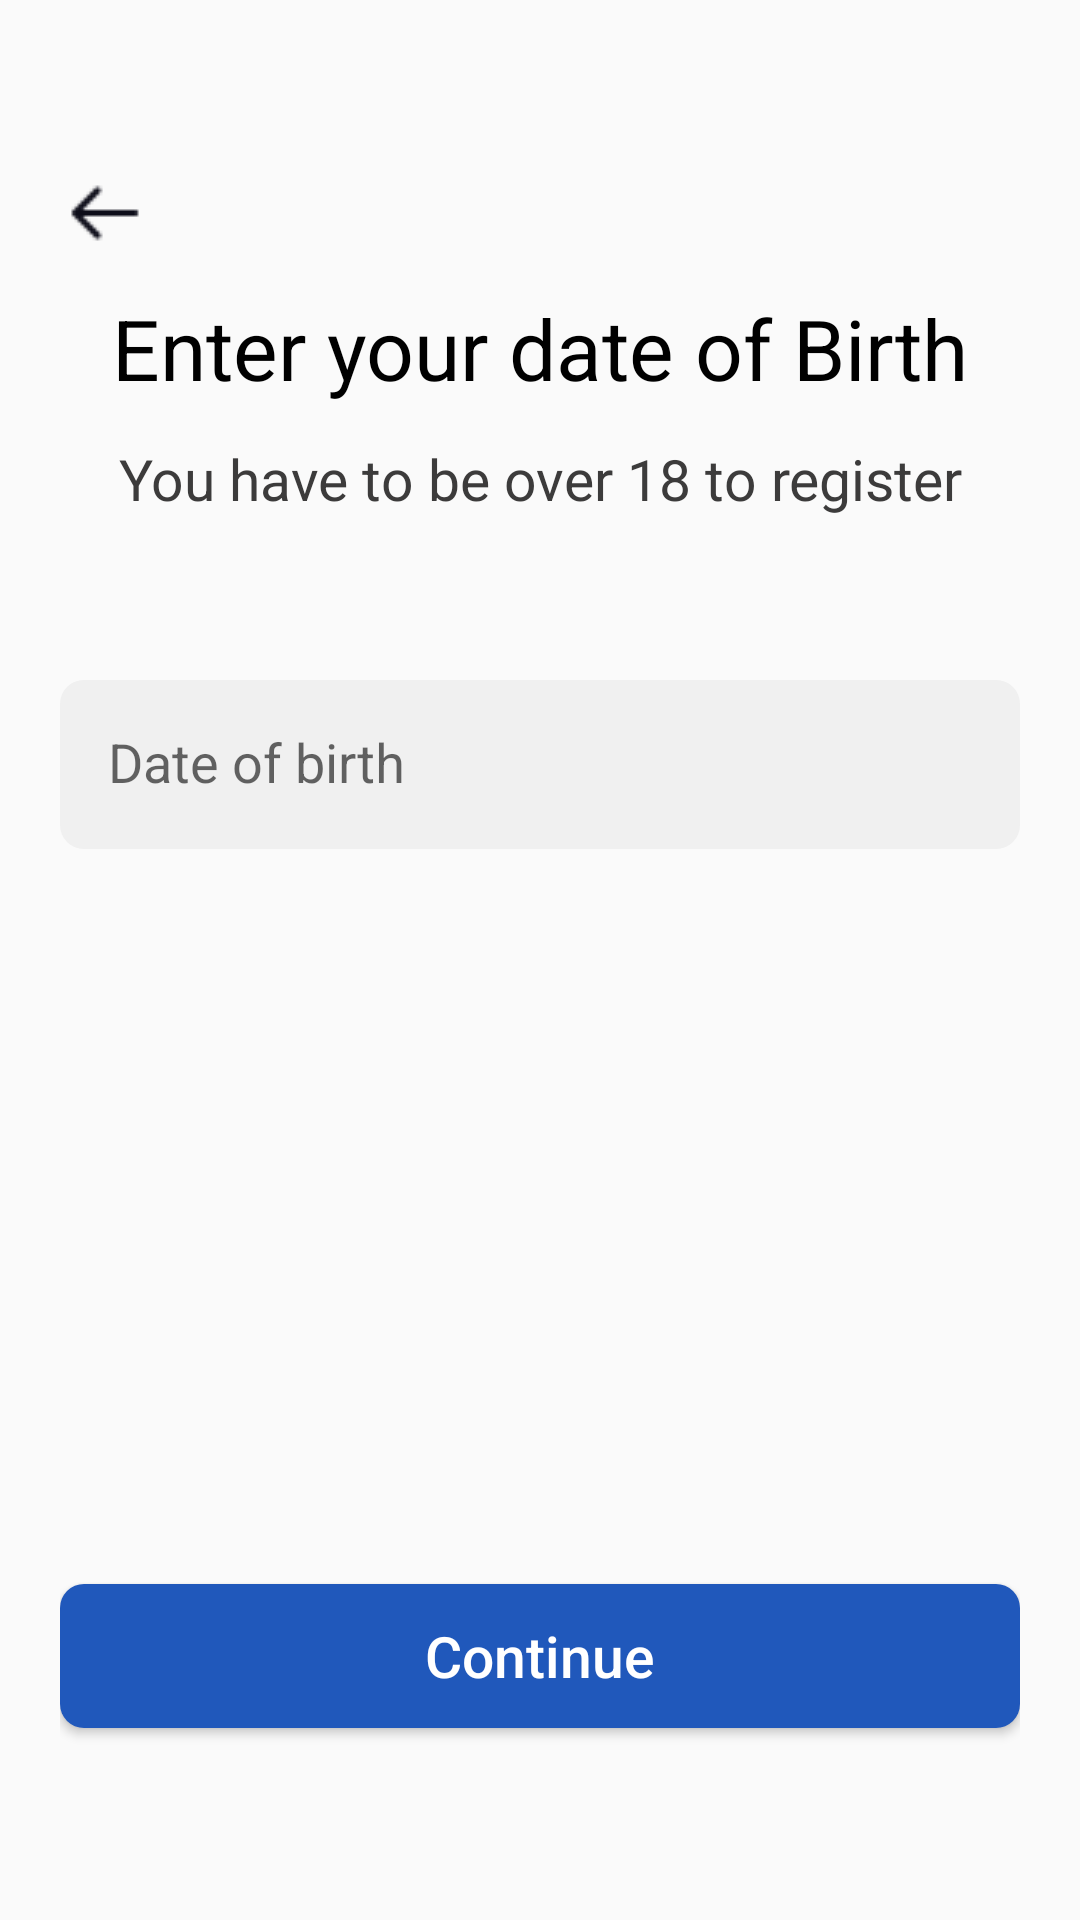

Icon bounding boxes for this 1080*1920 phone screenshot, format rect(x1, y1, x2, y2):
left: rect(71, 185, 139, 241)
